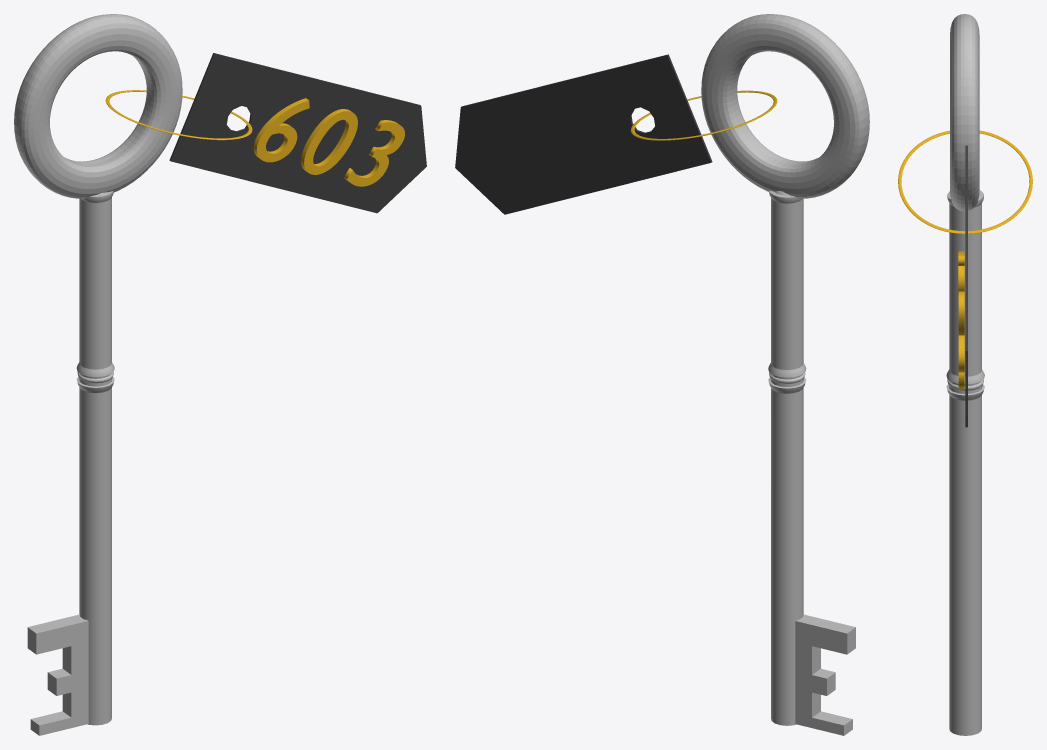
Rendered from key603.fbx.
3 views of the same model, side by side, from view 1: azimuth 30°, elevation 25°; view 2: azimuth 150°, elevation 25°; view 3: azimuth 270°, elevation 25° (orthographic).
Parts seen in each view (by area): view 1: key603; view 2: key603; view 3: key603.
Boxes of the visible parts, bbox=[...] form: key603: bbox=[14, 14, 426, 735]; key603: bbox=[455, 14, 869, 735]; key603: bbox=[898, 14, 1032, 735].
Size of the model in its own units: 8.68 by 14.18 by 2.45.
